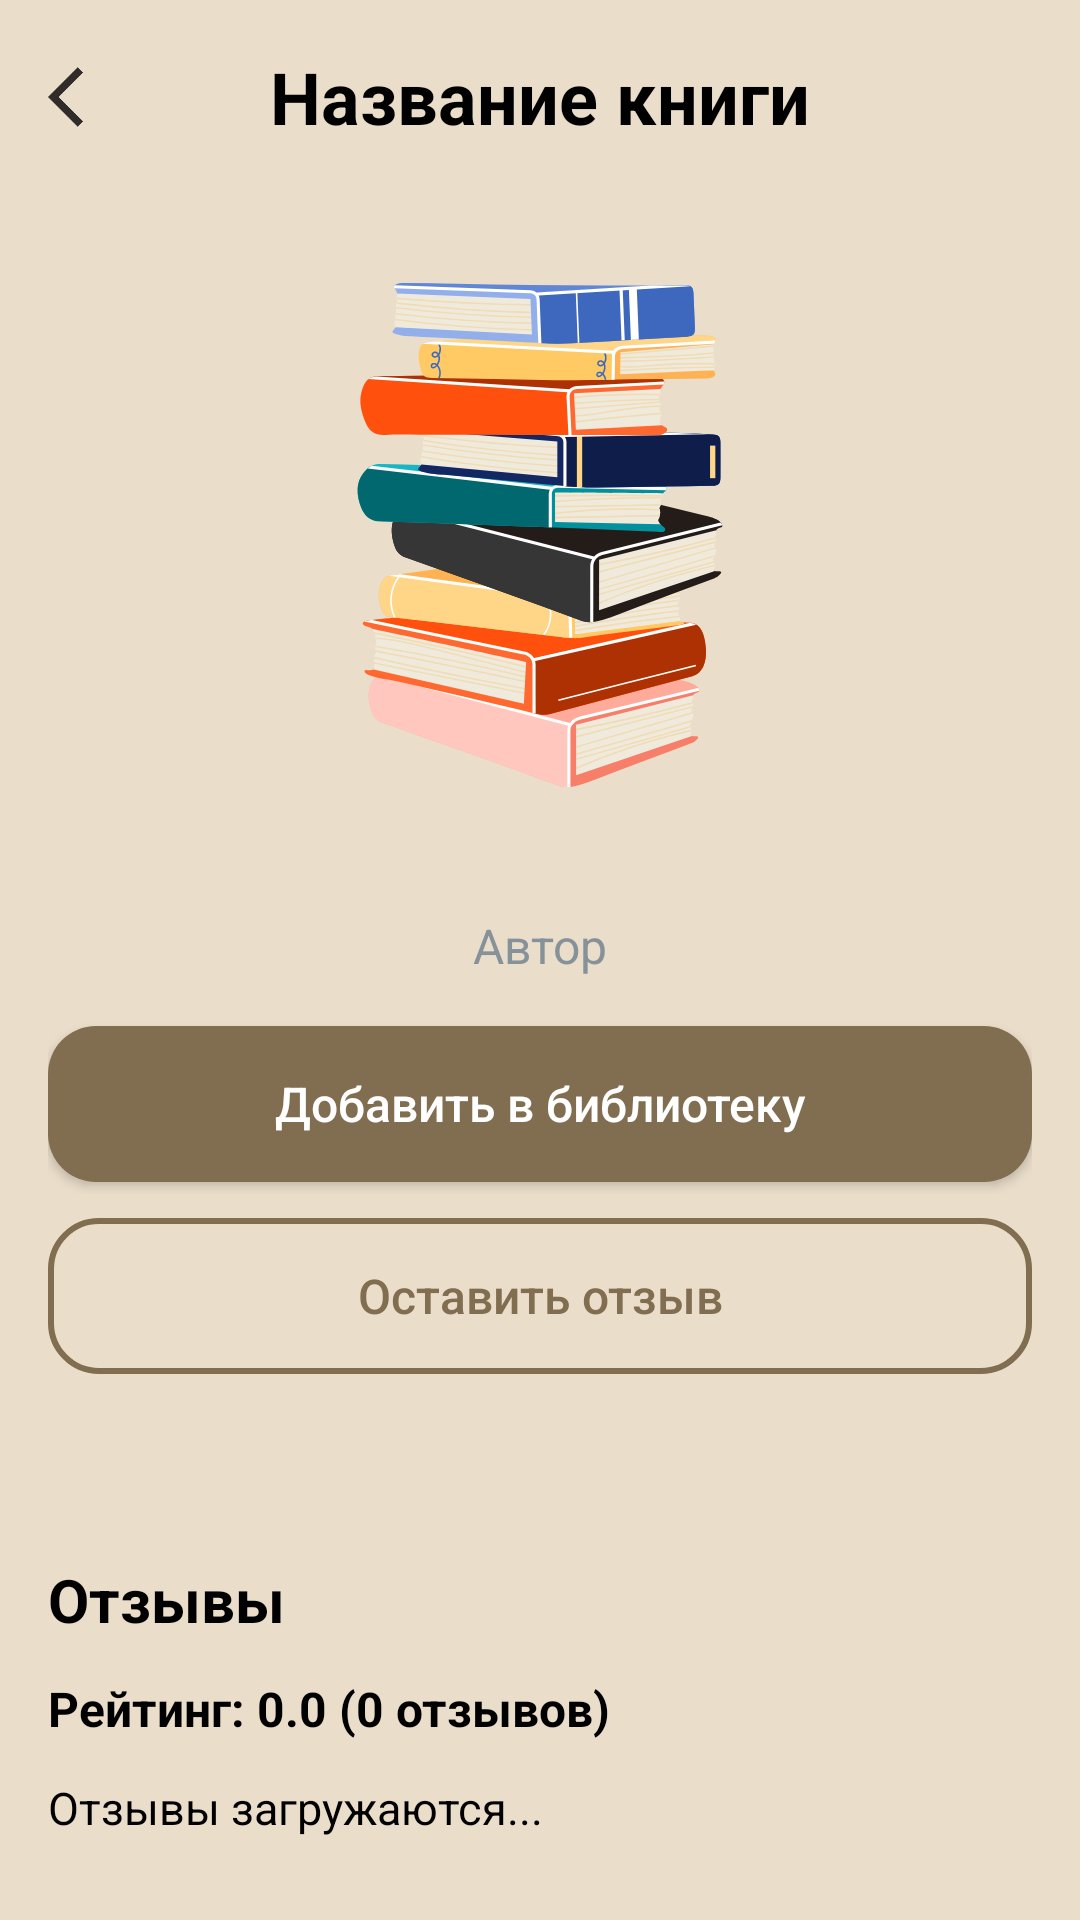

Icons on this 1080px x 1920px Android screen, each with its box as (x1, y1, x2, y2):
Назад: (48, 67, 83, 127)
